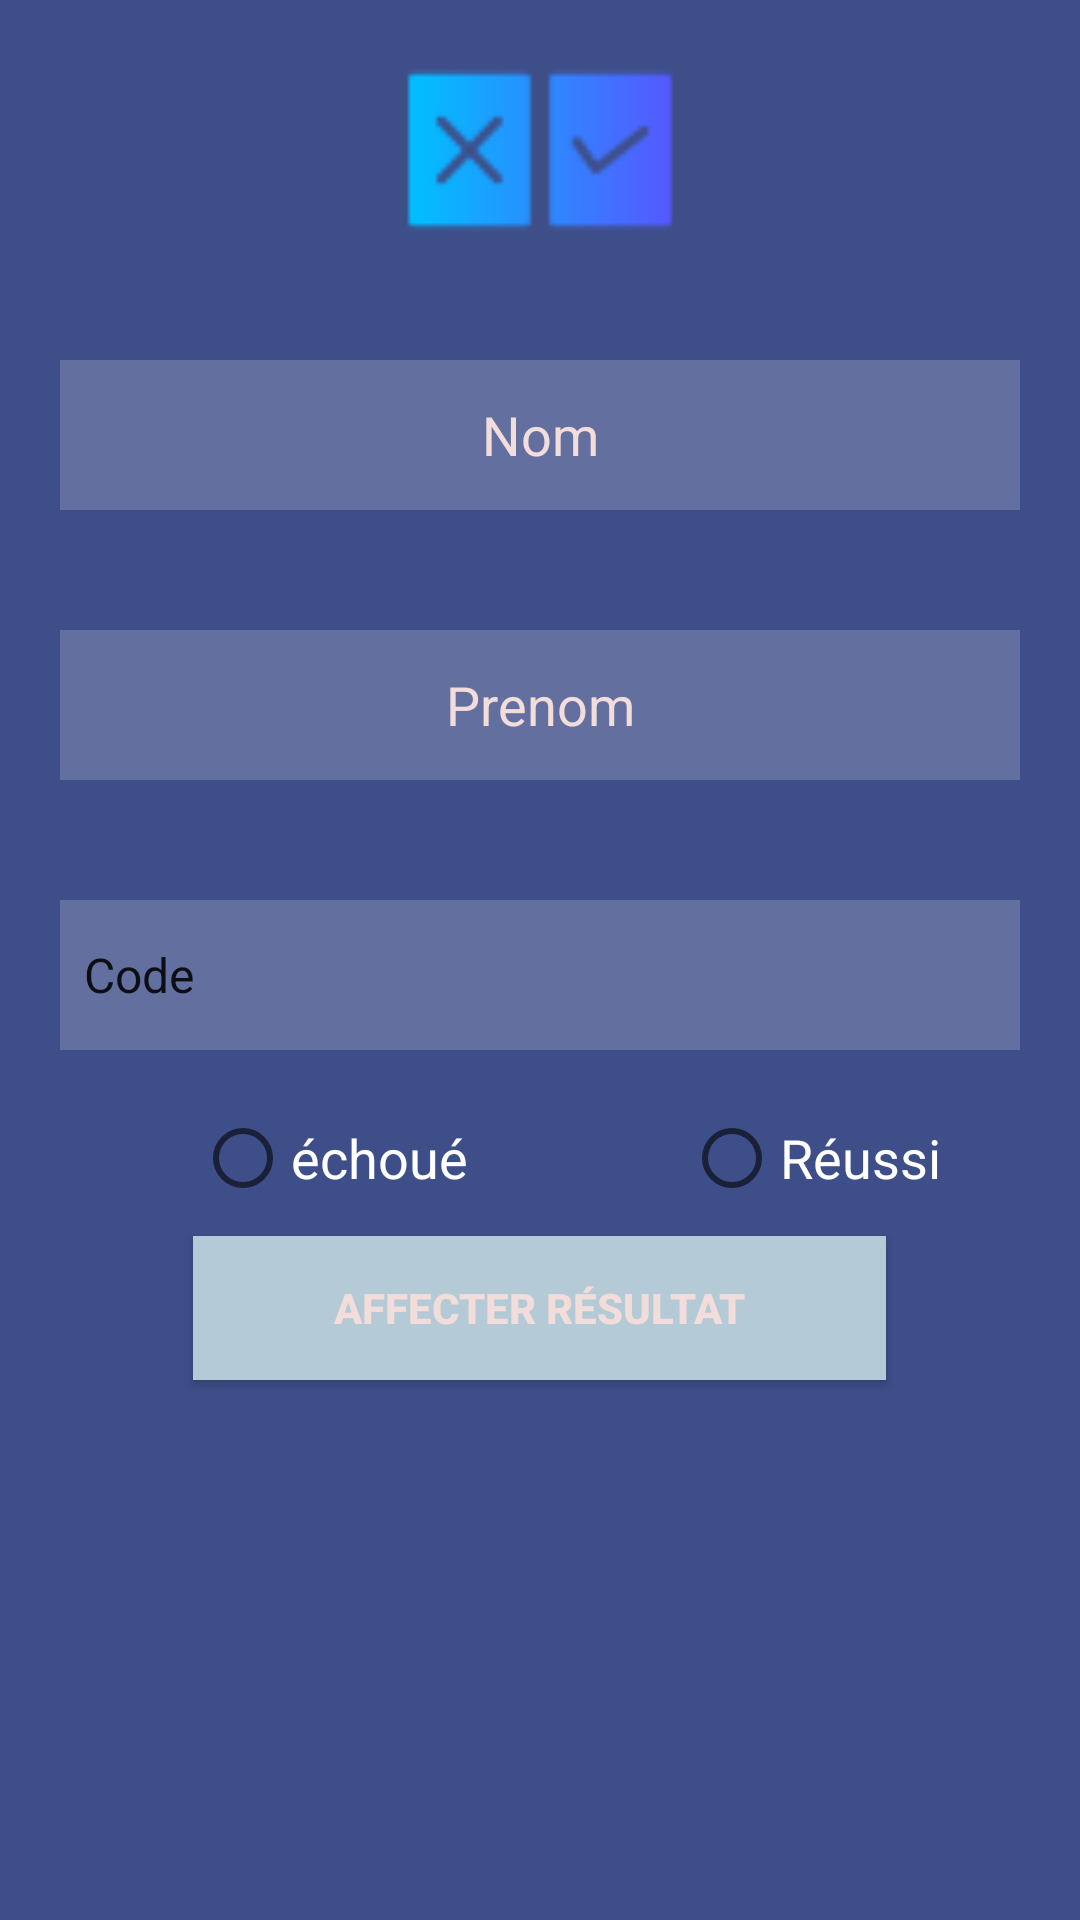

Where to tap for icons on this 1080px x 1920px app screen, as (x,y):
ouiounon: (540,150)
